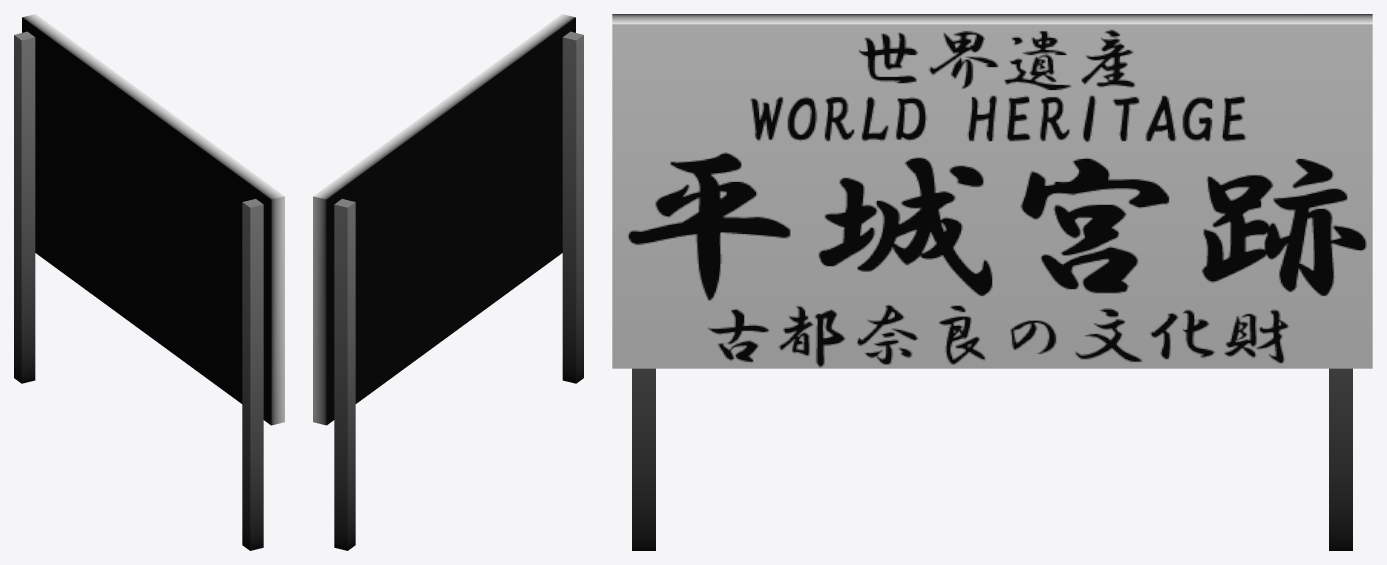
The model's file is HEJO.glb.
3 views of the same model, side by side, from view 1: azimuth 30°, elevation 25°; view 2: azimuth 150°, elevation 25°; view 3: azimuth 270°, elevation 25° (orthographic). The views are drawn at different scales.
Parts seen in each view (by area): view 1: obj1; view 2: obj1; view 3: obj1.
Boxes of the visible parts, x1,y1,x2,y2 form: obj1: (14, 14, 284, 550); obj1: (313, 14, 583, 550); obj1: (612, 14, 1372, 550).
Size of the model in its own units: 2.1 by 24.97 by 32.
2 materials, 2 textured.
